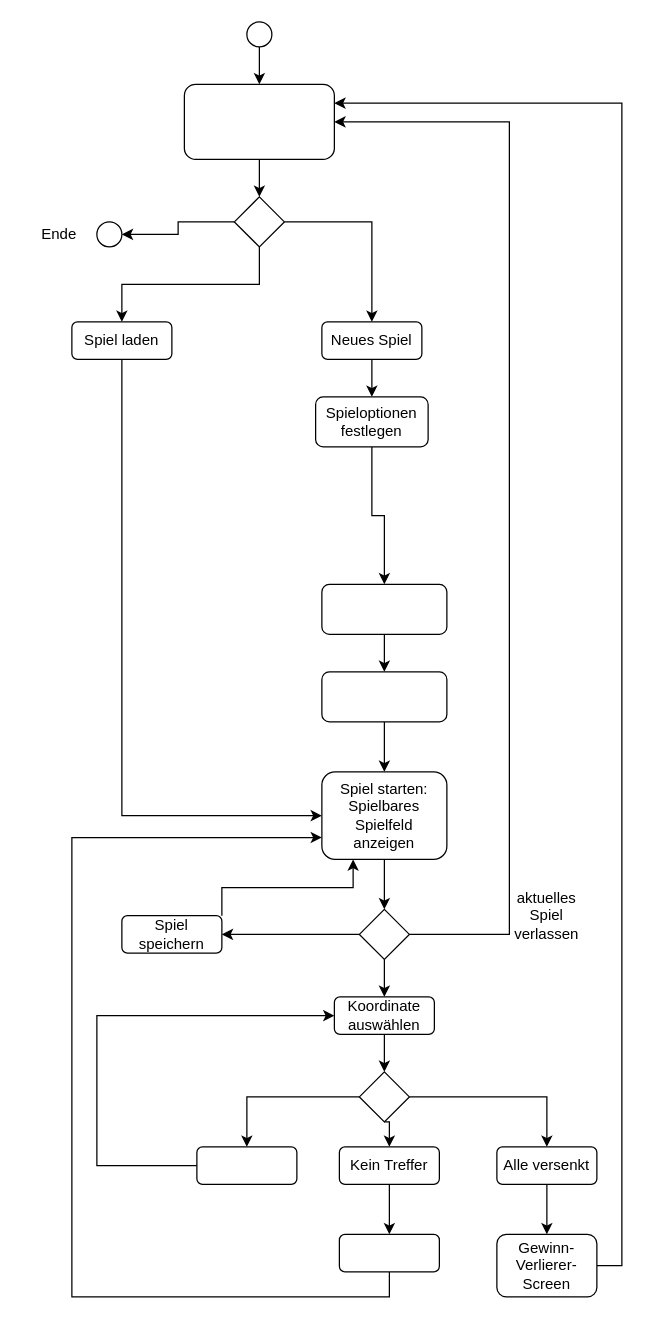
This 654x1329 diagram has some shape labels left out. The shapes that lost their labels are listed below. From the top down, each one's centre as x and y in pixels, then its label:
At (258,121): "Menü anzeigen".
At (384,608): "Spielfeld anzeigen".
At (384,696): "Schiffe platzieren".
At (246,1165): "Treffer".
At (388,1252): "anderer Spieler".
